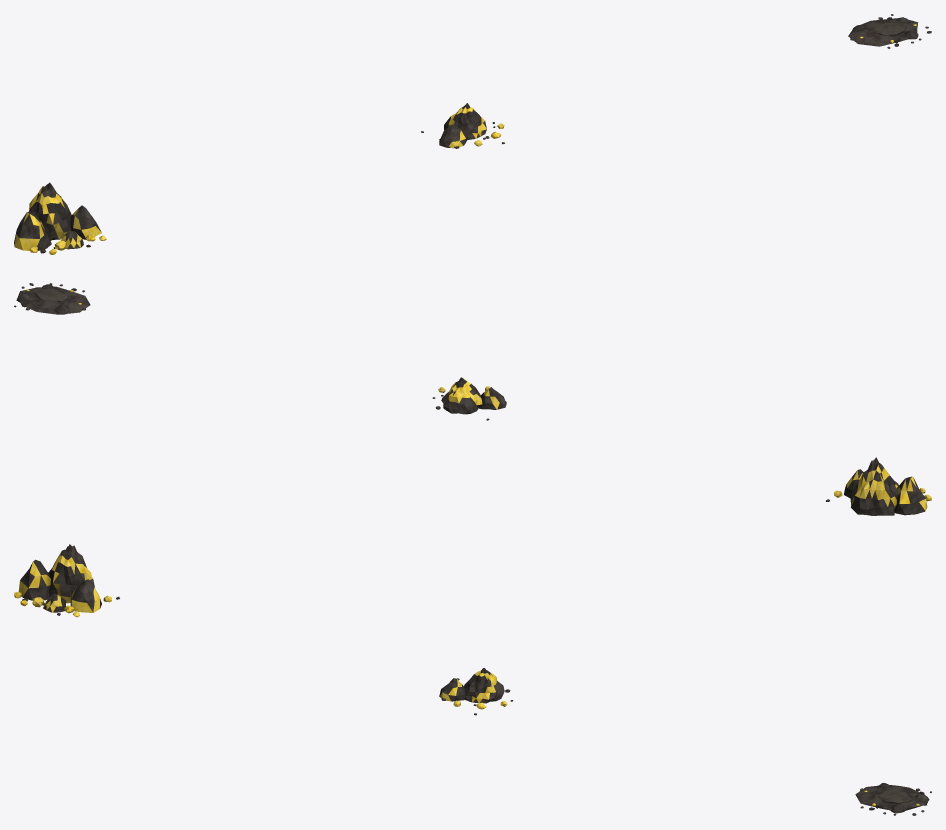
Rendered from gold-vein.glb.
3 renders of one model, top to bottom at view 1: azimuth 30°, elevation 25°; view 2: azimuth 150°, elevation 25°; view 3: azimuth 330°, elevation 25°, orthographic.
Visible parts, largest first — view 1: LOD0, LOD0.002, LOD0.001; view 2: LOD0, LOD0.002, LOD0.001; view 3: LOD0, LOD0.001, LOD0.002.
Boxes of the visible parts, box(x1,y1,x2,y2) form: LOD0: box(14, 182, 106, 254); LOD0.002: box(848, 14, 931, 48); LOD0.001: box(421, 103, 504, 148); LOD0: box(826, 457, 931, 515); LOD0.002: box(14, 283, 90, 314); LOD0.001: box(432, 377, 506, 420); LOD0: box(14, 544, 119, 617); LOD0.001: box(439, 668, 513, 715); LOD0.002: box(855, 783, 931, 815).
Size of what is drawn, in the model's own units: 6.56 by 0.3422 by 0.4937.
Materials: 1 (1 with a texture image).
